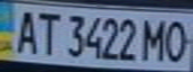2: (118, 15, 142, 62), (100, 14, 121, 61)
3: (63, 10, 84, 58)
4: (81, 12, 103, 60)
A: (9, 7, 42, 55)
M: (139, 16, 172, 63)
O: (163, 16, 193, 63)
T: (33, 8, 60, 56)
